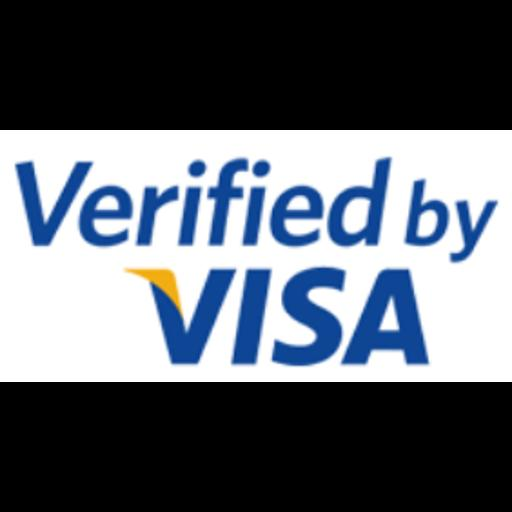Visa International Service Association: (0, 130, 512, 382)
